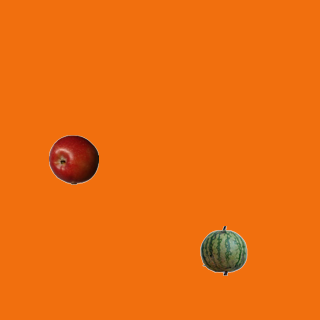Apple Braeburn: (48, 134, 98, 184)
Watermelon: (198, 225, 248, 275)
